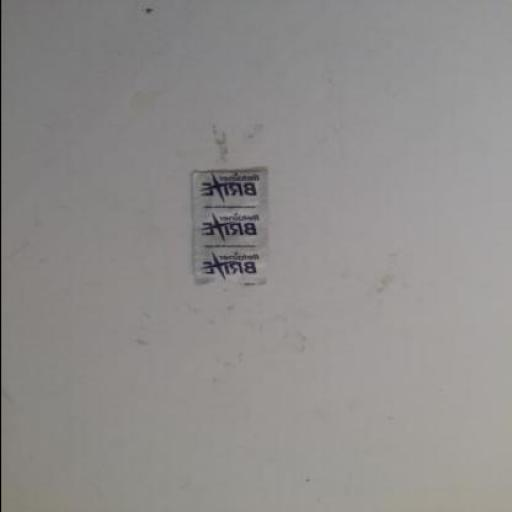plastic: (191, 172, 268, 287)
